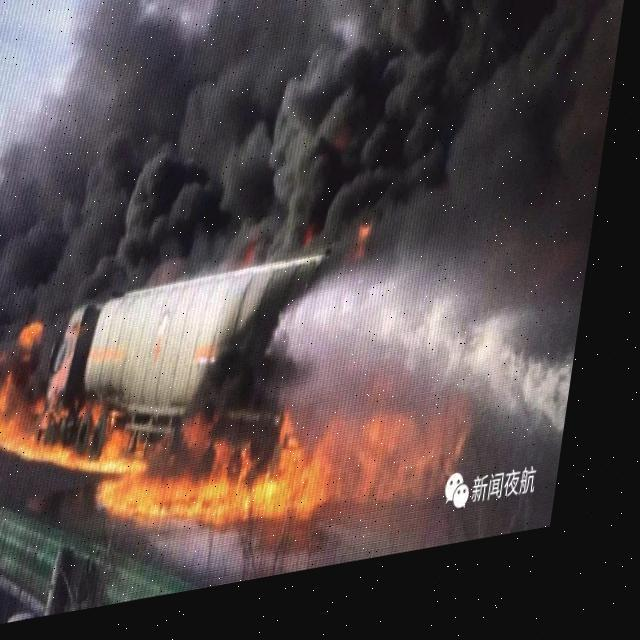Fire: (0, 260, 515, 589)
